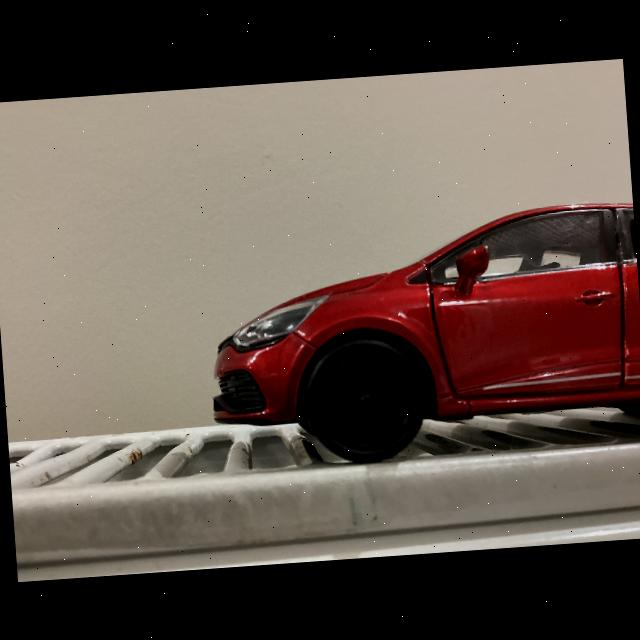Dogru_Jant: (315, 348, 416, 450)
